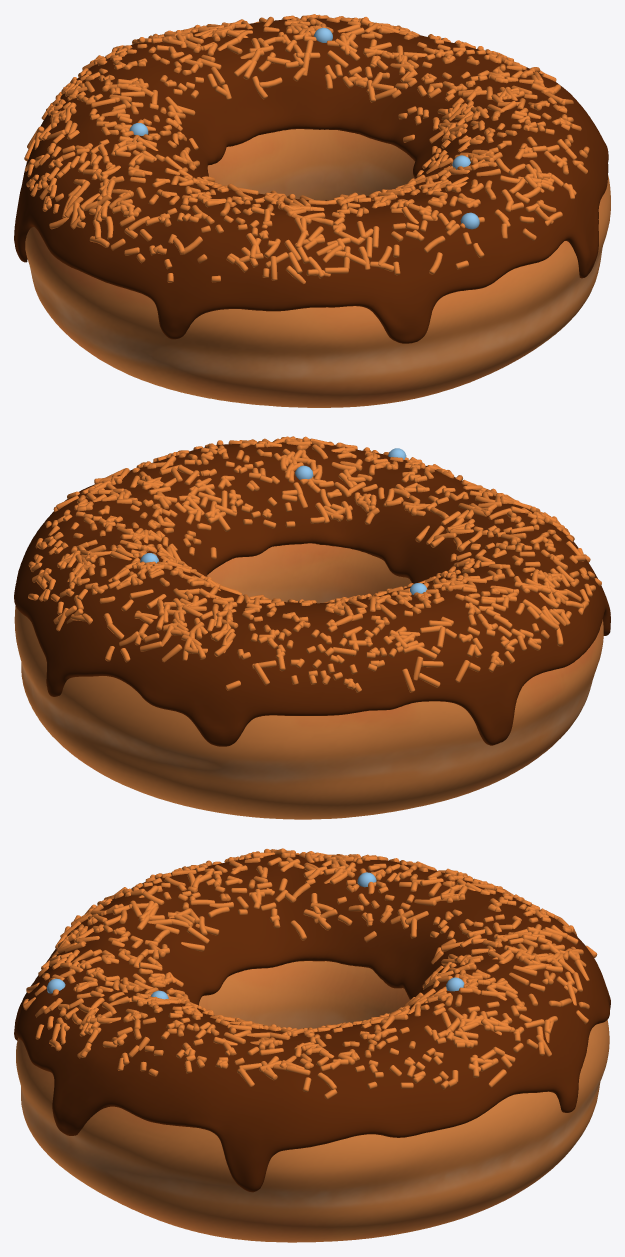
Rendered from donut_textures.gltf.
The picture shows the model from 3 angles, top to bottom: view 1: azimuth 30°, elevation 25°; view 2: azimuth 150°, elevation 25°; view 3: azimuth 270°, elevation 25°; orthographic projection.
Visible parts, largest first — view 1: icing, donut; view 2: icing, donut; view 3: icing, donut.
Part boxes in pixels (<box>): icing: <box>14,18,608,343</box>; donut: <box>25,129,610,407</box>; icing: <box>14,442,610,746</box>; donut: <box>14,543,603,819</box>; icing: <box>14,854,610,1192</box>; donut: <box>16,961,609,1242</box>.
Bounding box in the file's own units: 0.1148 × 0.044 × 0.1112.
Materials: 1102 (1 with a texture image).
